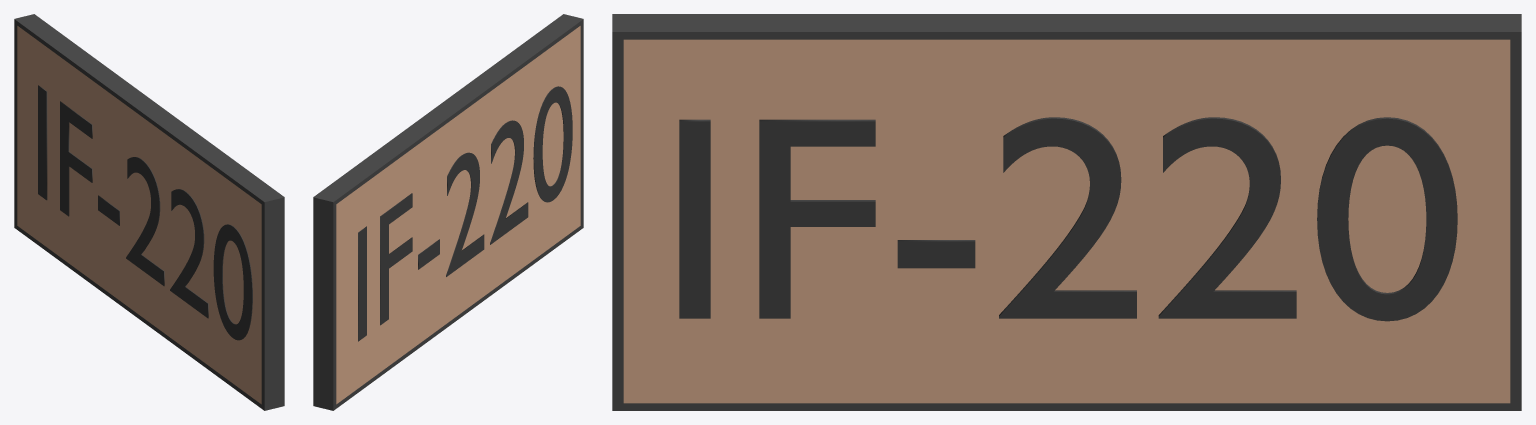
The picture shows the model from 3 angles, left to right: view 1: azimuth 30°, elevation 25°; view 2: azimuth 150°, elevation 25°; view 3: azimuth 270°, elevation 25°; orthographic projection. The views are drawn at different scales.
Parts seen in each view (by area): view 1: Cube, Text.001; view 2: Cube, Text.001; view 3: Cube, Text.
Boxes of the visible parts, bbox=[...] form: Cube: bbox=[14, 14, 284, 410]; Text.001: bbox=[38, 85, 252, 340]; Cube: bbox=[313, 14, 583, 410]; Text.001: bbox=[358, 86, 572, 341]; Cube: bbox=[612, 14, 1521, 410]; Text: bbox=[679, 117, 1457, 321].
Bounding box in the file's own units: 11.55 × 102 × 222.
